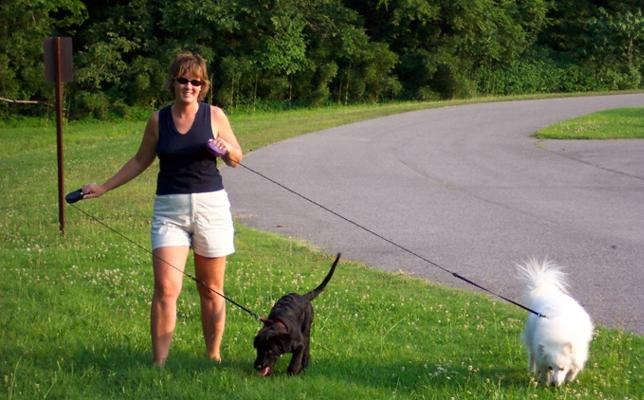person: (82, 51, 245, 365)
